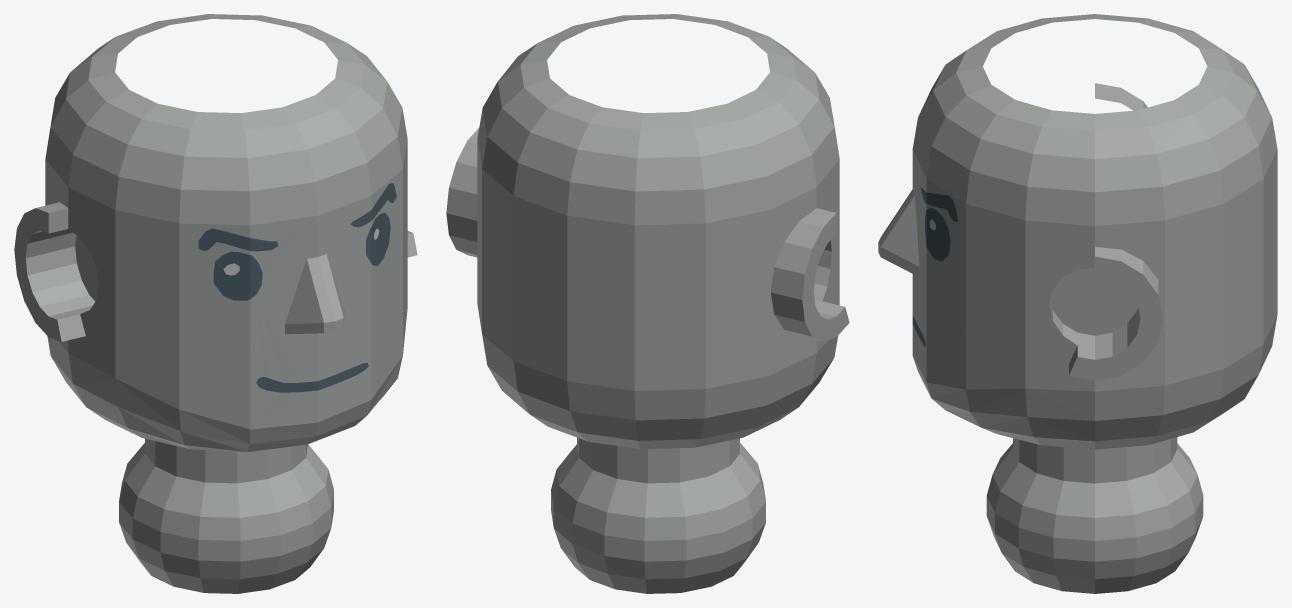
The picture shows the model from 3 angles, left to right: view 1: azimuth 30°, elevation 25°; view 2: azimuth 150°, elevation 25°; view 3: azimuth 270°, elevation 25°; orthographic projection.
Visible parts, largest first — view 1: world; view 2: world; view 3: world.
Boxes of the visible parts, x1=… form: world: x1=14, y1=14, x2=417, y2=593; world: x1=446, y1=14, x2=849, y2=593; world: x1=878, y1=14, x2=1277, y2=593.
Bounding box in the file's own units: 0.0144 × 0.019 × 0.014.
